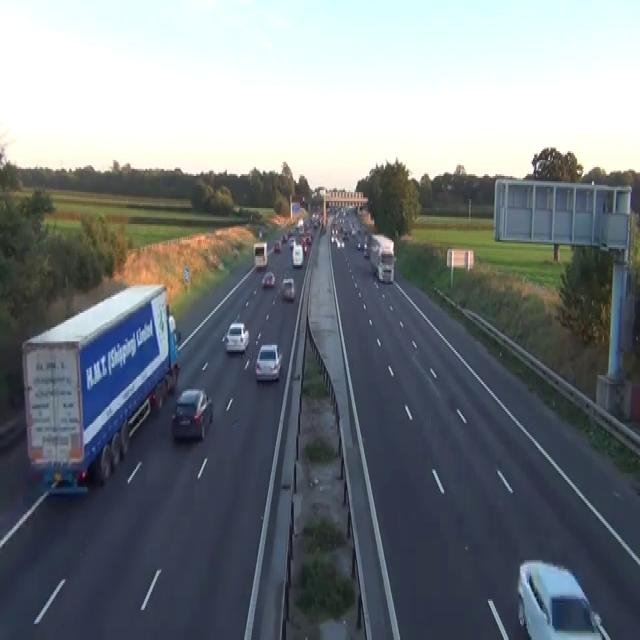Car: (516, 558, 612, 638), (171, 387, 213, 441), (0, 407, 26, 452), (254, 343, 282, 381), (221, 322, 249, 352), (149, 375, 167, 411), (377, 250, 394, 282), (281, 278, 295, 300), (363, 233, 372, 258), (261, 270, 275, 286), (300, 237, 307, 254), (312, 214, 320, 228), (288, 236, 296, 249), (336, 236, 344, 249), (273, 240, 281, 252), (363, 244, 369, 258), (356, 238, 363, 249), (281, 231, 288, 242), (300, 196, 305, 204), (258, 228, 262, 238)
Truck: (21, 281, 180, 492), (369, 233, 394, 283), (253, 242, 267, 268), (292, 244, 303, 266)
